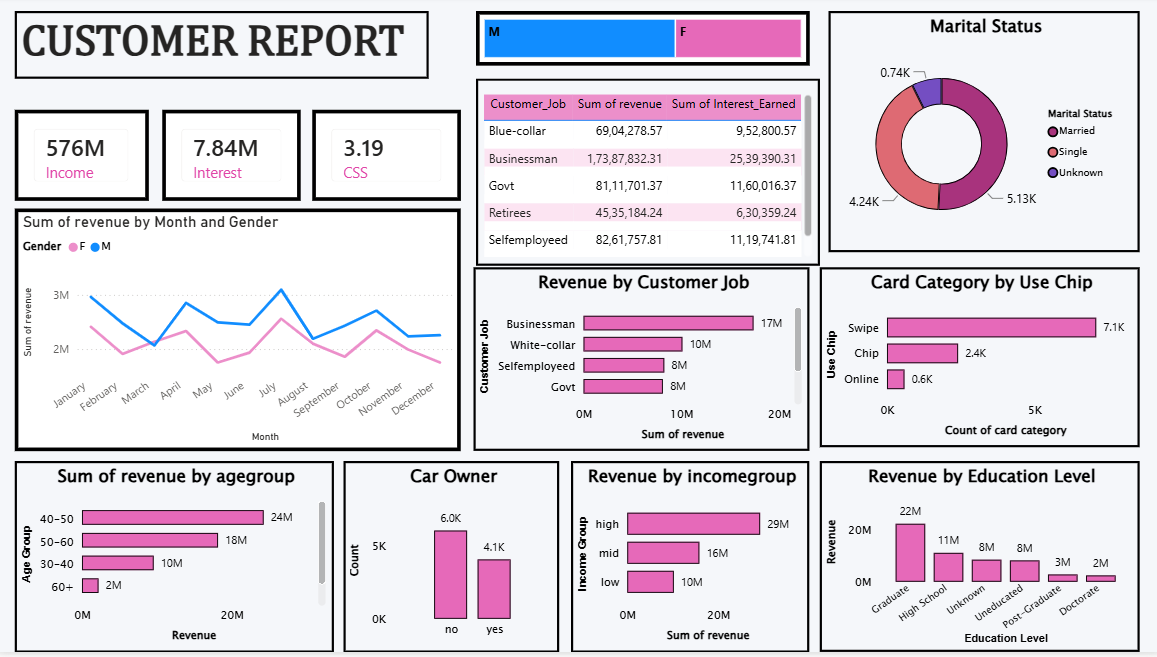

This screenshot's page, from the dashboard's own definition file:
{"tool":"powerbi","page":{"name":"Customer Report","canvas":[1280,720],"ordinal":1},"visuals":[{"type":"textbox","box":[20,17.1,454.3,74.3],"z":0},{"type":"donutChart","title":"Marital Status","fields":{"Y":["CountNonNull(credit_card_project customer.Client_Num)"],"Category":["credit_card_project customer.Marital_Status"]},"box":[913.9,16.5,341.7,264.8],"z":1000},{"type":"lineChart","fields":{"Category":["credit_card_project credit_card.Week_Start_Date.Variation.Date Hierarchy.Month"],"Y":["Sum(credit_card_project credit_card.revenue)"],"Series":["credit_card_project customer.Gender"]},"box":[20.6,233.3,489.9,266.2],"z":2000},{"type":"barChart","title":"Card Category by Use Chip","fields":{"Category":["credit_card_project credit_card.Use_Chip"],"Y":["CountNonNull(credit_card_project credit_card.Card_Category)"]},"box":[904.3,297.8,351.3,197.6],"z":3000},{"type":"tableEx","fields":{"Values":["credit_card_project customer.Customer_Job","Sum(credit_card_project credit_card.revenue)","Sum(credit_card_project credit_card.Interest_Earned)"]},"box":[526.9,90.6,377.4,205.8],"z":4000},{"type":"cardVisual","fields":{"Data":["Sum(credit_card_project credit_card.Interest_Earned)"]},"box":[182.5,124.9,152.3,100.2],"z":5000},{"type":"cardVisual","fields":{"Data":["Sum(credit_card_project customer.Income)"]},"box":[20.6,124.9,146.8,100.2],"z":6000},{"type":"cardVisual","fields":{"Data":["Avg(credit_card_project customer.Cust_Satisfaction_Score)"]},"box":[347.2,124.9,163.3,100.2],"z":7000},{"type":"columnChart","title":"Car Owner","fields":{"Category":["credit_card_project customer.Car_Owner"],"Y":["CountNonNull(credit_card_project customer.Client_Num)"]},"box":[381.4,510,237.1,210],"z":8000},{"type":"barChart","title":"Revenue by incomegroup","fields":{"Category":["credit_card_project customer.incomegroup"],"Y":["Sum(credit_card_project credit_card.revenue)"]},"box":[631.4,510,261.4,210],"z":9000},{"type":"barChart","fields":{"Y":["Sum(credit_card_project credit_card.revenue)"],"Category":["credit_card_project customer.agegroup"]},"box":[20,510,350,210],"z":10000},{"type":"barChart","title":"Revenue by Customer Job","fields":{"Y":["Sum(credit_card_project credit_card.revenue)"],"Category":["credit_card_project customer.Customer_Job"]},"box":[524.2,297.8,369.1,201.7],"z":11000},{"type":"columnChart","title":"Revenue by Education Level","fields":{"Category":["credit_card_project customer.Education_Level"],"Y":["Sum(credit_card_project credit_card.revenue)"]},"box":[904.3,510.5,351.3,209.9],"z":12000},{"type":"treemap","fields":{"Values":["Sum(credit_card_project customer.Income)"],"Details":["credit_card_project customer.Gender"]},"box":[526.9,16.5,366.4,60.4],"z":13000}]}

Visuals, with their boxes in screenshot pixels (x1, y1, x2, y2), scaled from the page's 1280x720 canvas onto the 1157x657 screenshot:
textbox: l=18, t=16, r=429, b=83
"Marital Status" donutChart: l=826, t=15, r=1135, b=257
lineChart - credit_card_project credit_card.Week_Start_Date.Variation.Date Hierarchy.Month x Sum(credit_card_project credit_card.revenue): l=19, t=213, r=461, b=456
"Card Category by Use Chip" barChart: l=817, t=272, r=1135, b=452
tableEx - credit_card_project customer.Customer_Job x Sum(credit_card_project credit_card.revenue): l=476, t=83, r=817, b=270
cardVisual - Sum(credit_card_project credit_card.Interest_Earned): l=165, t=114, r=303, b=205
cardVisual - Sum(credit_card_project customer.Income): l=19, t=114, r=151, b=205
cardVisual - Avg(credit_card_project customer.Cust_Satisfaction_Score): l=314, t=114, r=461, b=205
"Car Owner" columnChart: l=345, t=465, r=559, b=656
"Revenue by incomegroup" barChart: l=571, t=465, r=807, b=656
barChart - Sum(credit_card_project credit_card.revenue) x credit_card_project customer.agegroup: l=18, t=465, r=334, b=656
"Revenue by Customer Job" barChart: l=474, t=272, r=807, b=456
"Revenue by Education Level" columnChart: l=817, t=466, r=1135, b=656
treemap - Sum(credit_card_project customer.Income) x credit_card_project customer.Gender: l=476, t=15, r=807, b=70
